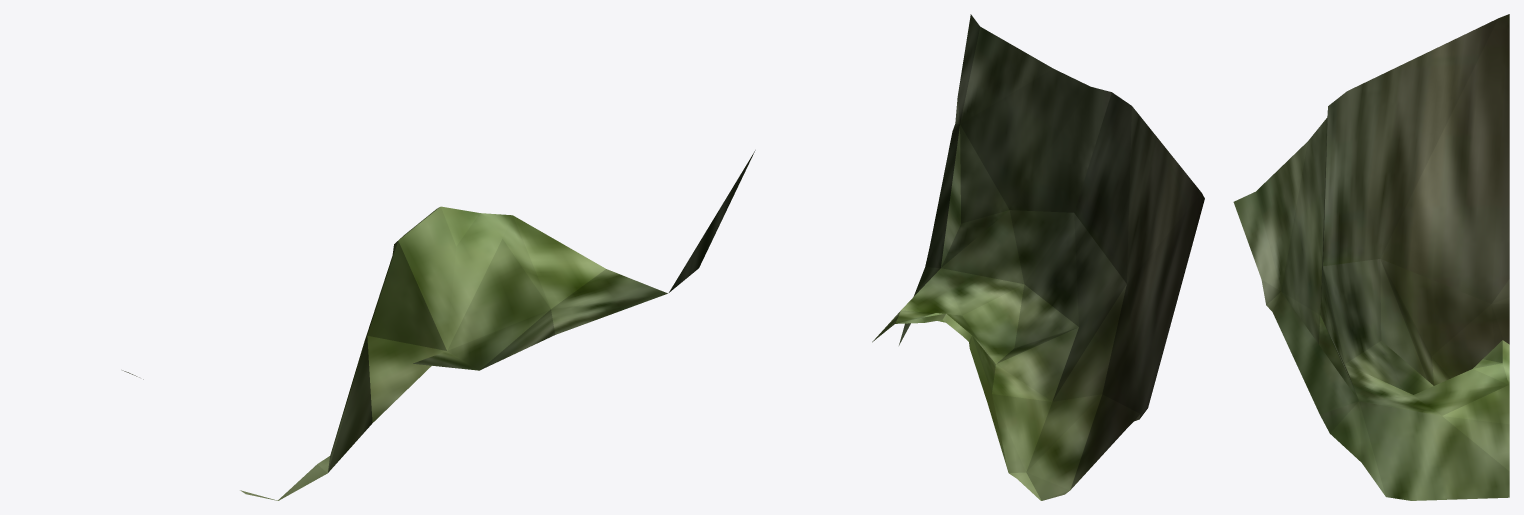
3 views of the same model, side by side, from view 1: azimuth 30°, elevation 25°; view 2: azimuth 150°, elevation 25°; view 3: azimuth 270°, elevation 25° (orthographic). The views are drawn at different scales.
Size of the model in its own units: 1.16 by 1.04 by 0.7175.
Materials: 1 (1 with a texture image).
